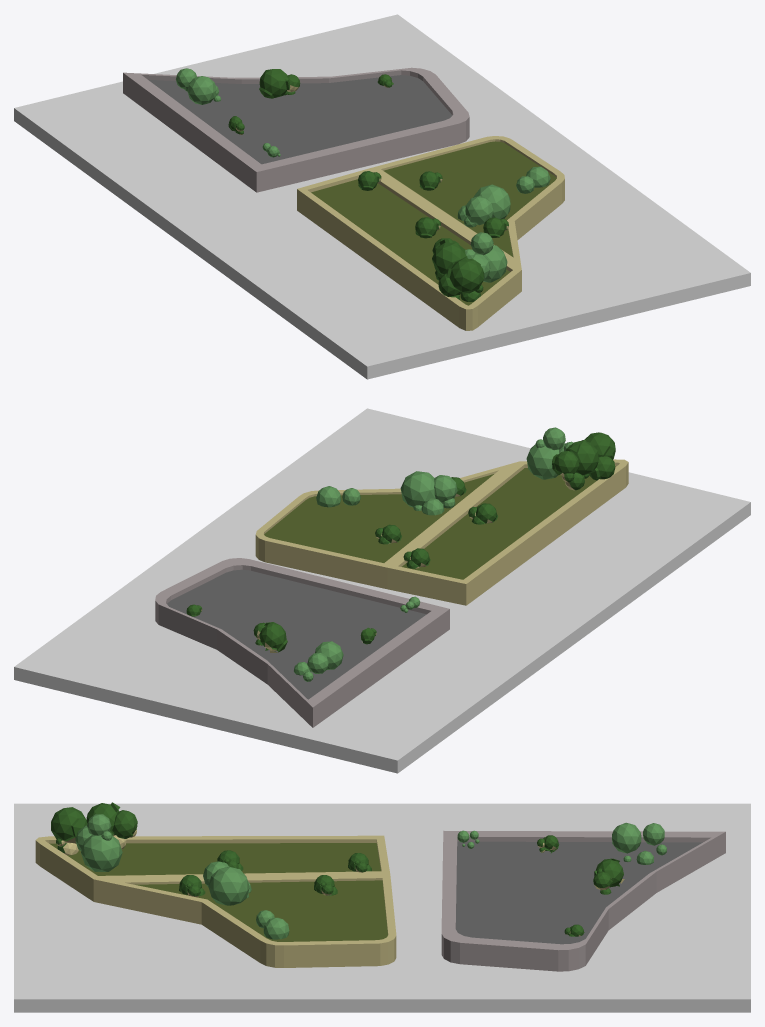
File: parking.fbx
3 renders of one model, top to bottom at view 1: azimuth 30°, elevation 25°; view 2: azimuth 150°, elevation 25°; view 3: azimuth 270°, elevation 25°, orthographic. The views are drawn at different scales.
Parts seen in each view (by area): view 1: Plane, Cube, Cube.001, Icosphere; view 2: Plane, Cube.001, Cube, Icosphere; view 3: Plane, Cube.001, Cube, Icosphere.
Part boxes in pixels (left/top/right/bottom): Plane: left=14, top=14, right=750, bottom=379; Cube: left=123, top=67, right=469, bottom=192; Cube.001: left=297, top=136, right=564, bottom=330; Icosphere: left=176, top=68, right=550, bottom=301; Plane: left=14, top=408, right=750, bottom=773; Cube.001: left=255, top=459, right=628, bottom=605; Cube: left=155, top=558, right=449, bottom=727; Icosphere: left=186, top=427, right=615, bottom=681; Plane: left=14, top=803, right=750, bottom=1012; Cube.001: left=35, top=835, right=396, bottom=967; Cube: left=441, top=830, right=725, bottom=971; Icosphere: left=51, top=802, right=666, bottom=939.
Size of the model in its own units: 1823 by 357 by 2907.
